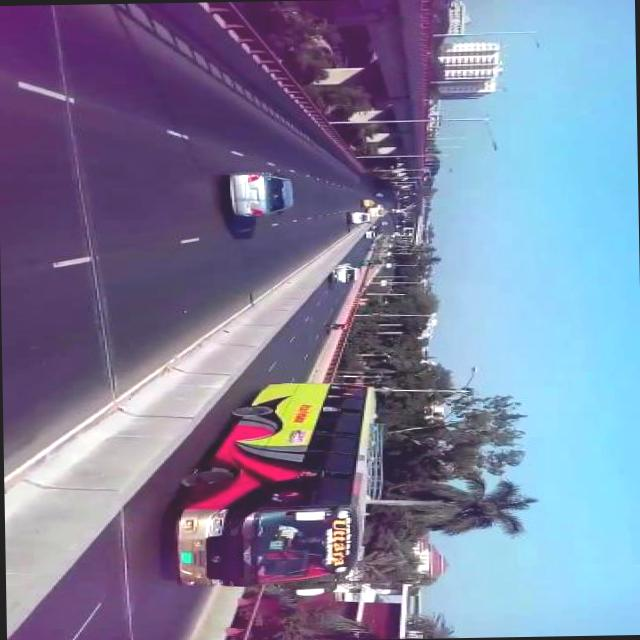bus: (162, 377, 396, 590)
car: (223, 164, 295, 218)
motorcycle: (324, 320, 354, 331)
truck: (328, 259, 363, 283), (346, 208, 372, 224)
